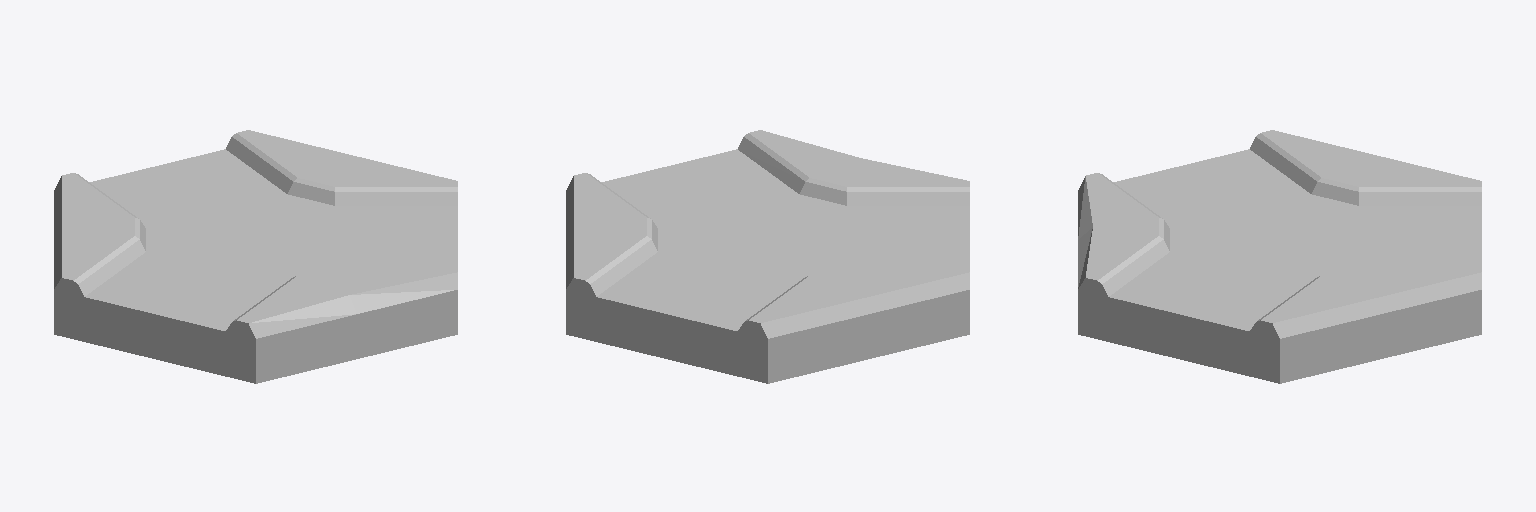
3 renders of one model, left to right at view 1: azimuth 30°, elevation 25°; view 2: azimuth 150°, elevation 25°; view 3: azimuth 270°, elevation 25°, orthographic.
Parts seen in each view (by area): view 1: y tracks uv_done_textures_needed og; view 2: y tracks uv_done_textures_needed og; view 3: y tracks uv_done_textures_needed og.
Part boxes in pixels (x1,y1,x2,y2): y tracks uv_done_textures_needed og: (54,130,457,383); y tracks uv_done_textures_needed og: (566,130,969,383); y tracks uv_done_textures_needed og: (1078,130,1481,383).
Size of the model in its own units: 2 by 0.2777 by 1.73.